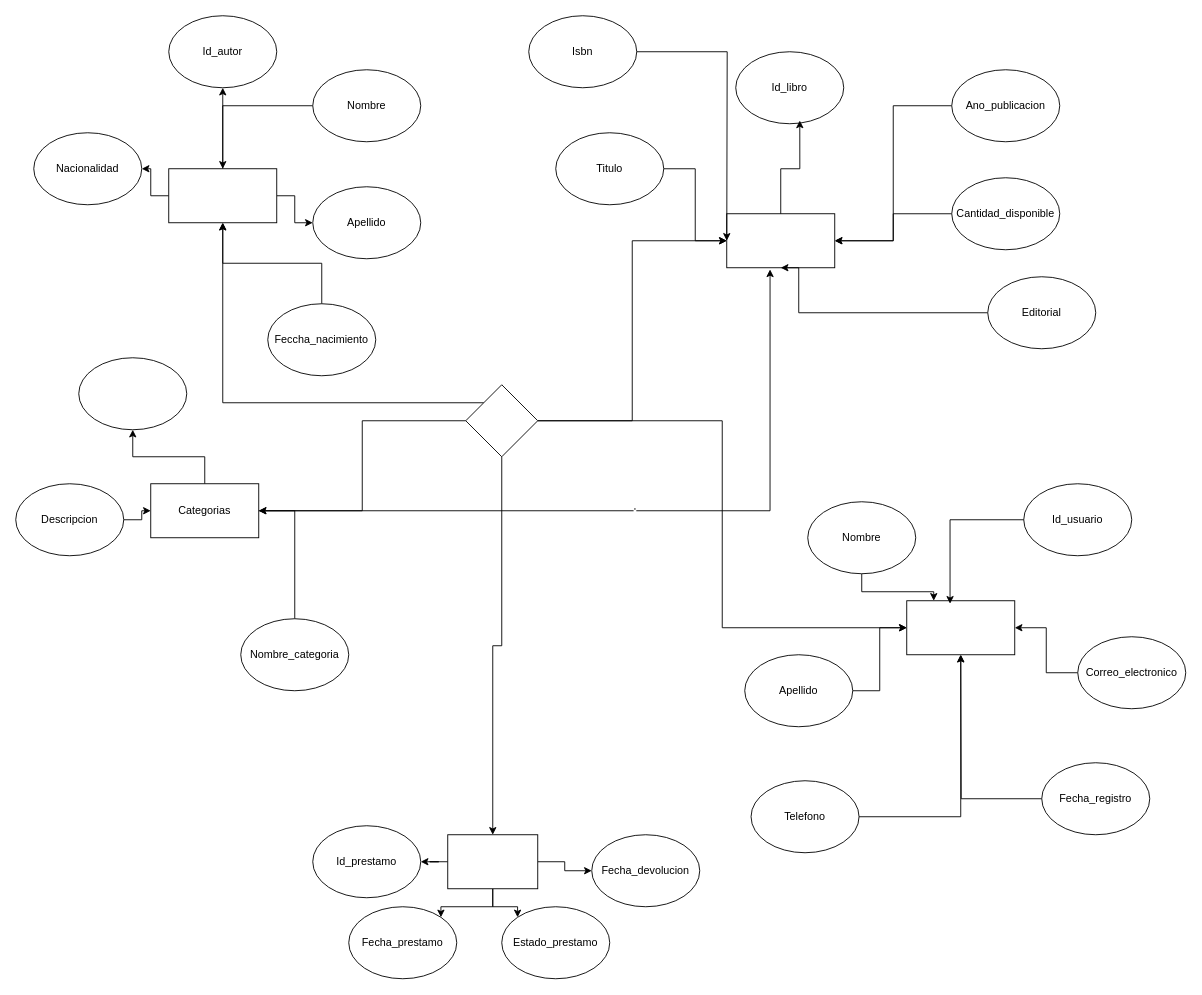
Some shapes in this 1202 by 995 pixel diagram are drawn without their labels. The shapes that lost their labels are listed below. From the top down, each one's box as (x1, y1, x2, y2) in pixels, then its label:
(168, 168, 277, 223): Autores
(726, 213, 835, 268): Libros
(78, 357, 187, 430): Id_categoria
(465, 384, 538, 457): Biblioteca
(906, 600, 1015, 655): Usuario
(447, 834, 538, 889): Prestamos
